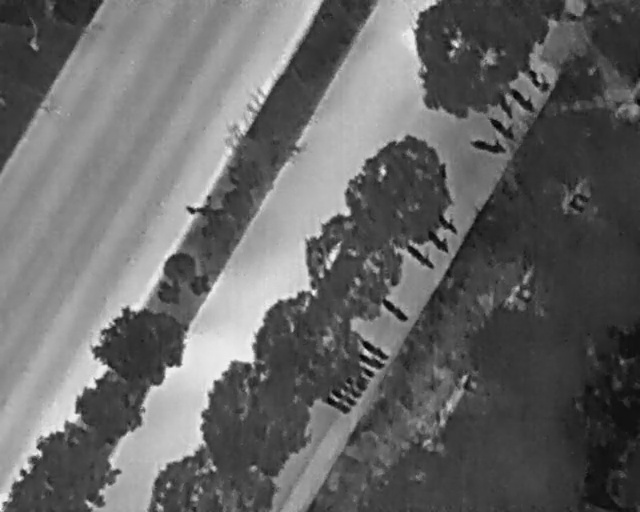Bicycle: (485, 109, 523, 145), (419, 223, 455, 258), (520, 62, 555, 97), (503, 82, 538, 116), (403, 241, 438, 274), (356, 333, 392, 364), (467, 131, 509, 157), (430, 206, 463, 238), (379, 294, 412, 325), (318, 392, 353, 417), (492, 89, 518, 122), (325, 385, 360, 408), (342, 366, 372, 392), (354, 348, 385, 373), (331, 379, 360, 400), (354, 361, 378, 380)
